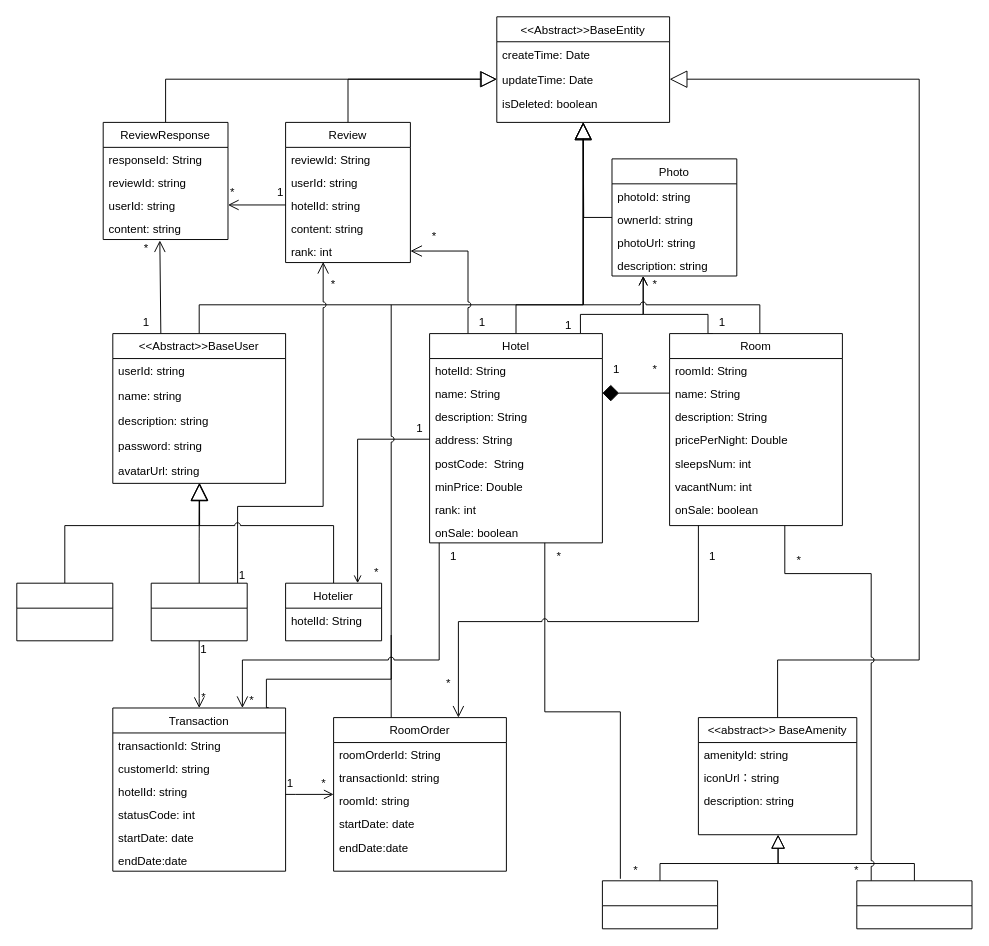
Some shapes in this 989 by 946 pixel diagram are drawn without their labels. The shapes that lost their labels are listed below. From the top down, each one's centre as x and y in pixels, then its label:
the point at 64,611: Admin
the point at 198,611: Customer
the point at 659,904: HotelAmenity
the point at 914,904: roomAmenity
